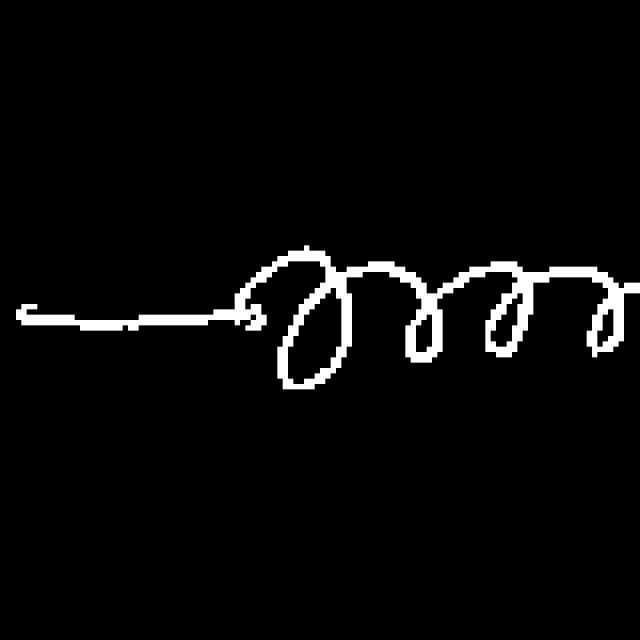inductor: (224, 213, 640, 411)
